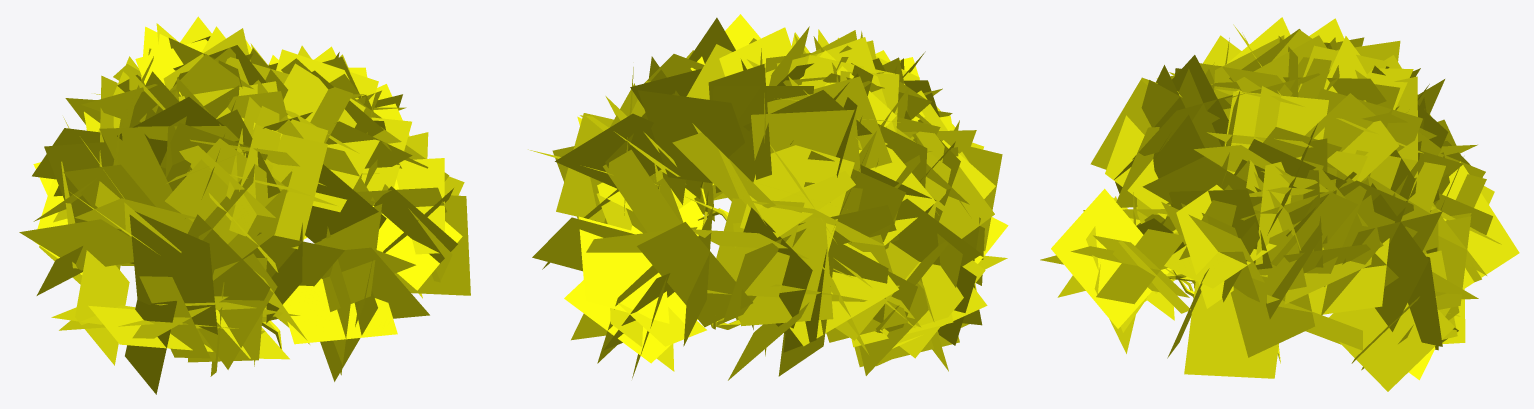
The model's file is bush_forest_a.glb.
3 views of the same model, side by side, from view 1: azimuth 30°, elevation 25°; view 2: azimuth 150°, elevation 25°; view 3: azimuth 270°, elevation 25° (orthographic). The views are drawn at different scales.
Visible parts, largest first — view 1: Bushe_02_LOD0; view 2: Bushe_02_LOD0, SM_Bushes_02_LOD0; view 3: Bushe_02_LOD0.
Part boxes in pixels (<box>): Bushe_02_LOD0: <box>19,16,470,394</box>; Bushe_02_LOD0: <box>528,14,1008,380</box>; SM_Bushes_02_LOD0: <box>654,181,826,356</box>; Bushe_02_LOD0: <box>1040,17,1519,391</box>.
Size of the model in its own units: 1.97 by 1.52 by 2.01.
